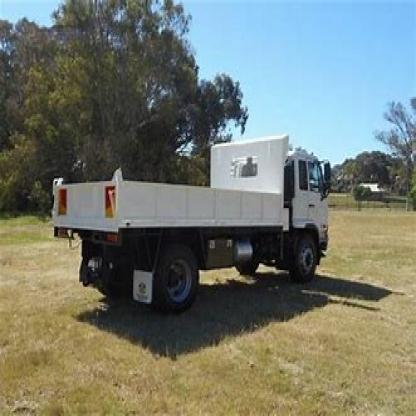dump_truck: (51, 122, 332, 312)
